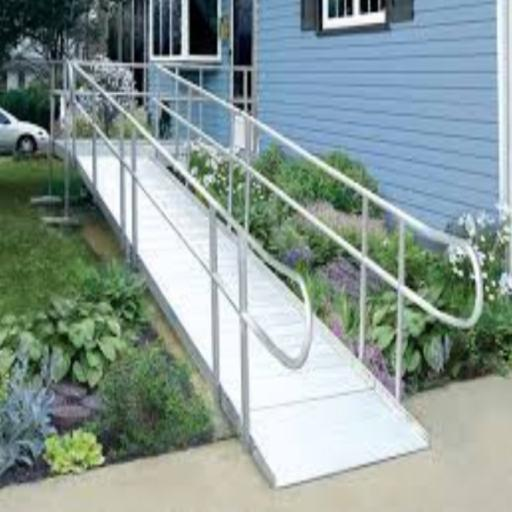book: (0, 107, 50, 156)
entrance: (61, 68, 429, 488)
